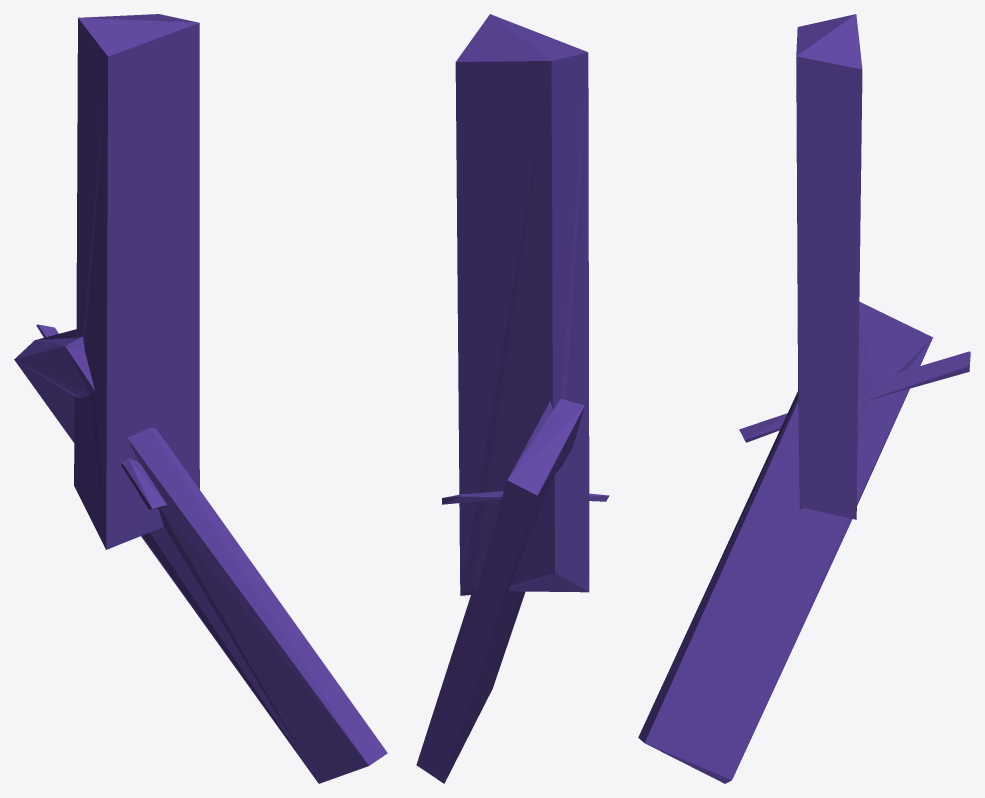
3 views of the same model, side by side, from view 1: azimuth 30°, elevation 25°; view 2: azimuth 150°, elevation 25°; view 3: azimuth 270°, elevation 25° (orthographic). The views are drawn at different scales.
Parts seen in each view (by area): view 1: 559_Cube.2254; view 2: 559_Cube.2254; view 3: 559_Cube.2254.
Part boxes in pixels (x1,y1,x2,y2): 559_Cube.2254: (14,14,387,783); 559_Cube.2254: (416,14,609,783); 559_Cube.2254: (638,14,970,783).
Size of the model in its own units: 5.78 by 18.92 by 8.22.
